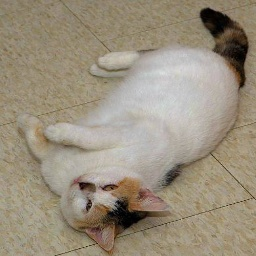cat: (20, 7, 245, 249)
